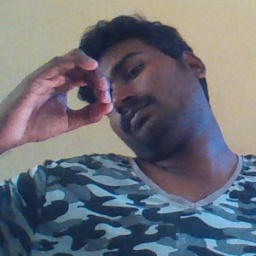O: (2, 43, 121, 147)
